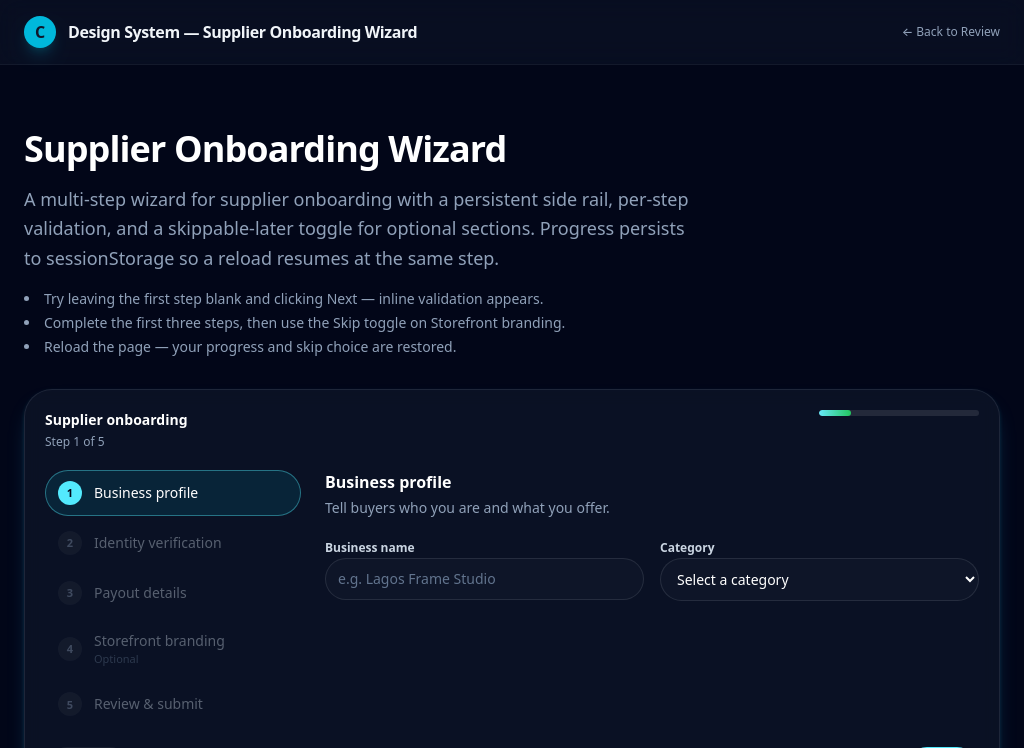
Test case: SupplierOnboardingDesignReviewPage › allows advancing to the next step when providing valid input
The width and height of the screenshot is (1024, 748).
// Business Profile
Type "Test Business" into the field labelled "Business name".
click(484, 579); type("Test Business")  # box [325,558,644,600]
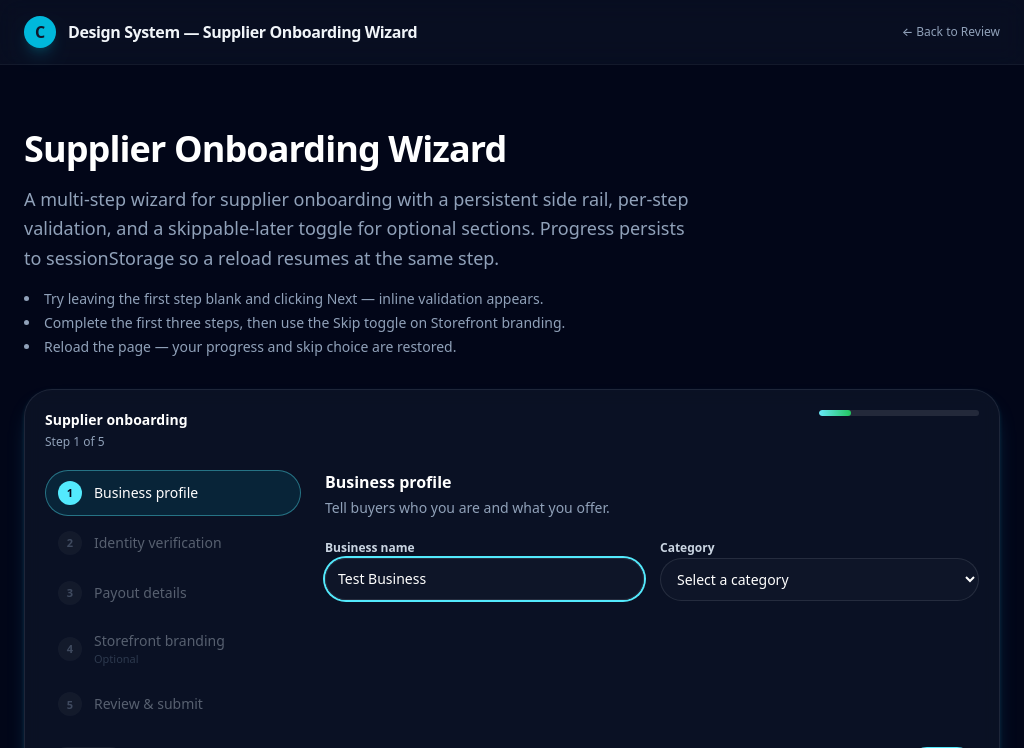
Select "Photography" in the dropdown labelled "Category" at (820, 579), box [660,558,979,601]
(page scrolled)
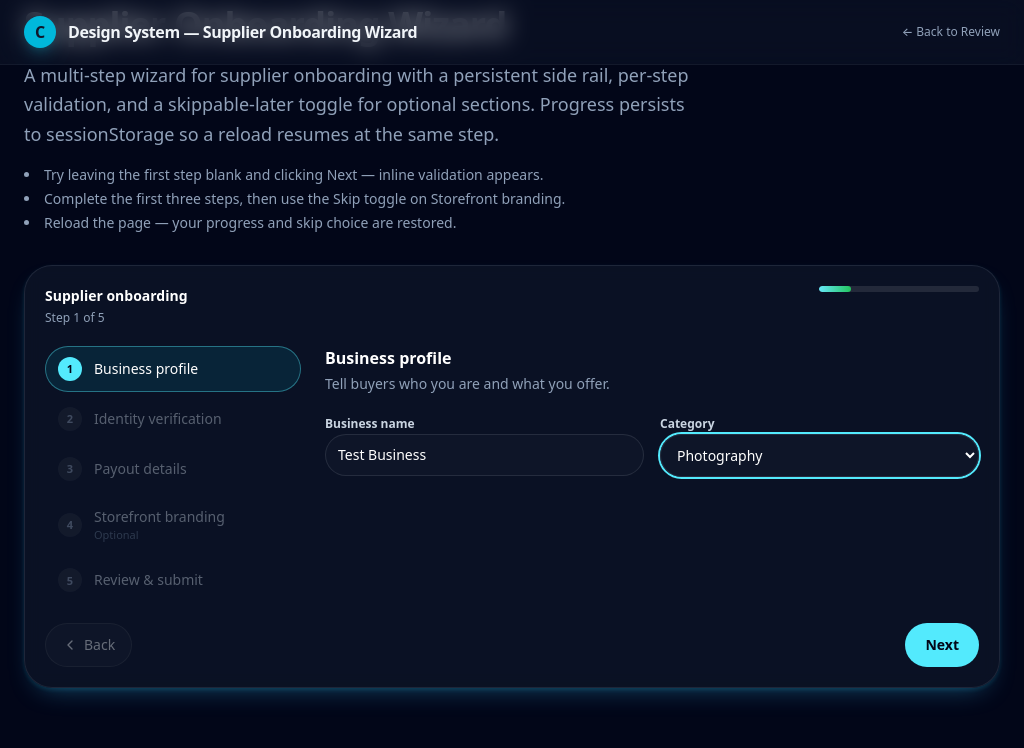
Click the button "Next".
click(942, 646)  # box [906,624,979,668]
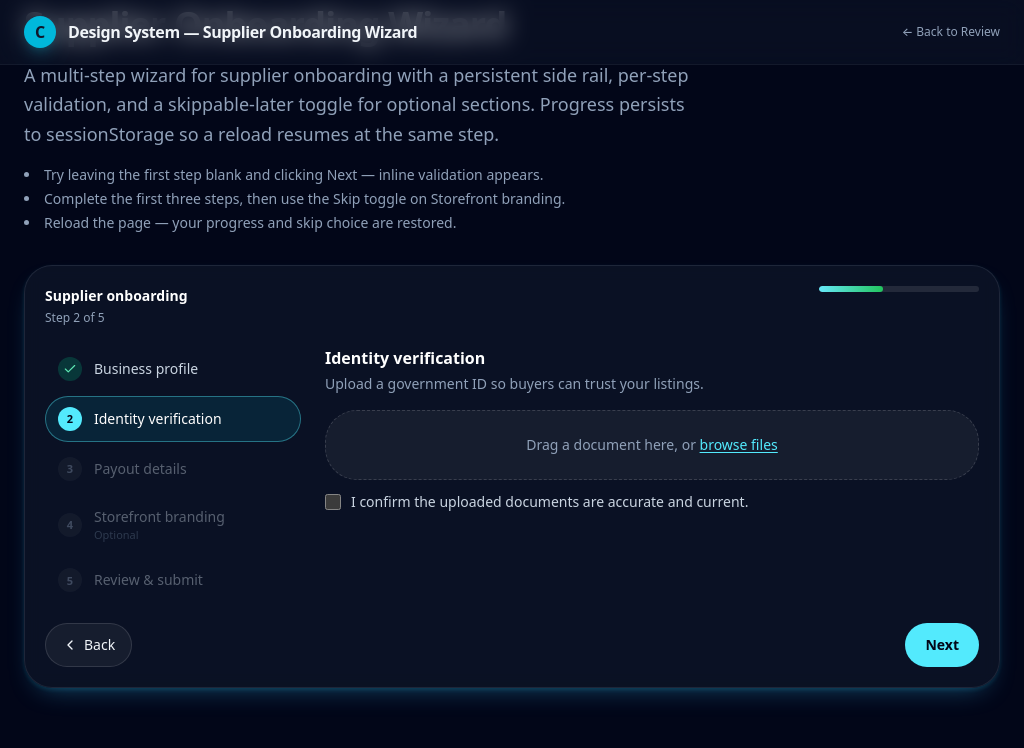
Result: the heading "Identity verification" is shown at [325,347,485,369]
